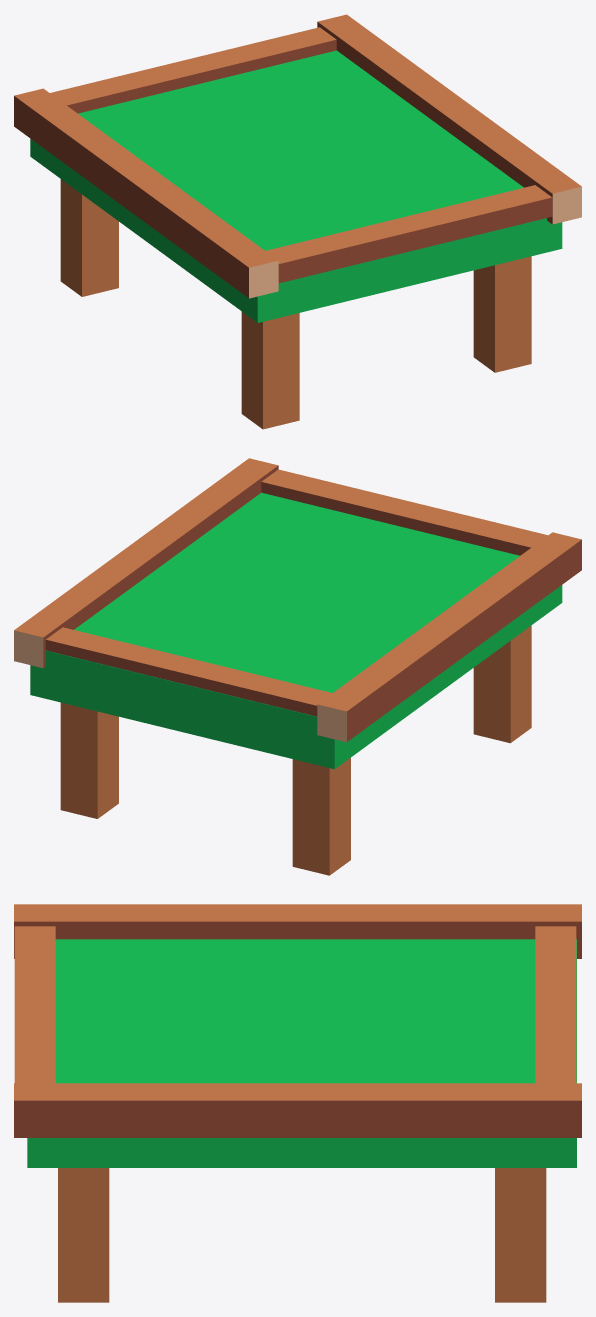
Rendered from BillardTable.gltf.
3 views of the same model, one above another, from view 1: azimuth 30°, elevation 25°; view 2: azimuth 150°, elevation 25°; view 3: azimuth 270°, elevation 25° (orthographic). The views are drawn at different scales.
Visible parts, largest first — view 1: cuboid (×4), cube (×4); view 2: cuboid (×4), cube (×4); view 3: cuboid (×3), cube (×4).
Part boxes in pixels (x1,y1,x2,y2): cuboid (×4): (30,50,562,429); cube (×4): (14,14,581,298); cuboid (×4): (30,492,562,875); cube (×4): (14,458,581,742); cuboid (×3): (27,939,576,1302); cube (×4): (14,904,581,1137).
Bounding box in the file's own units: 5.65 × 2.97 × 6.91.
3 materials, 3 textured.
